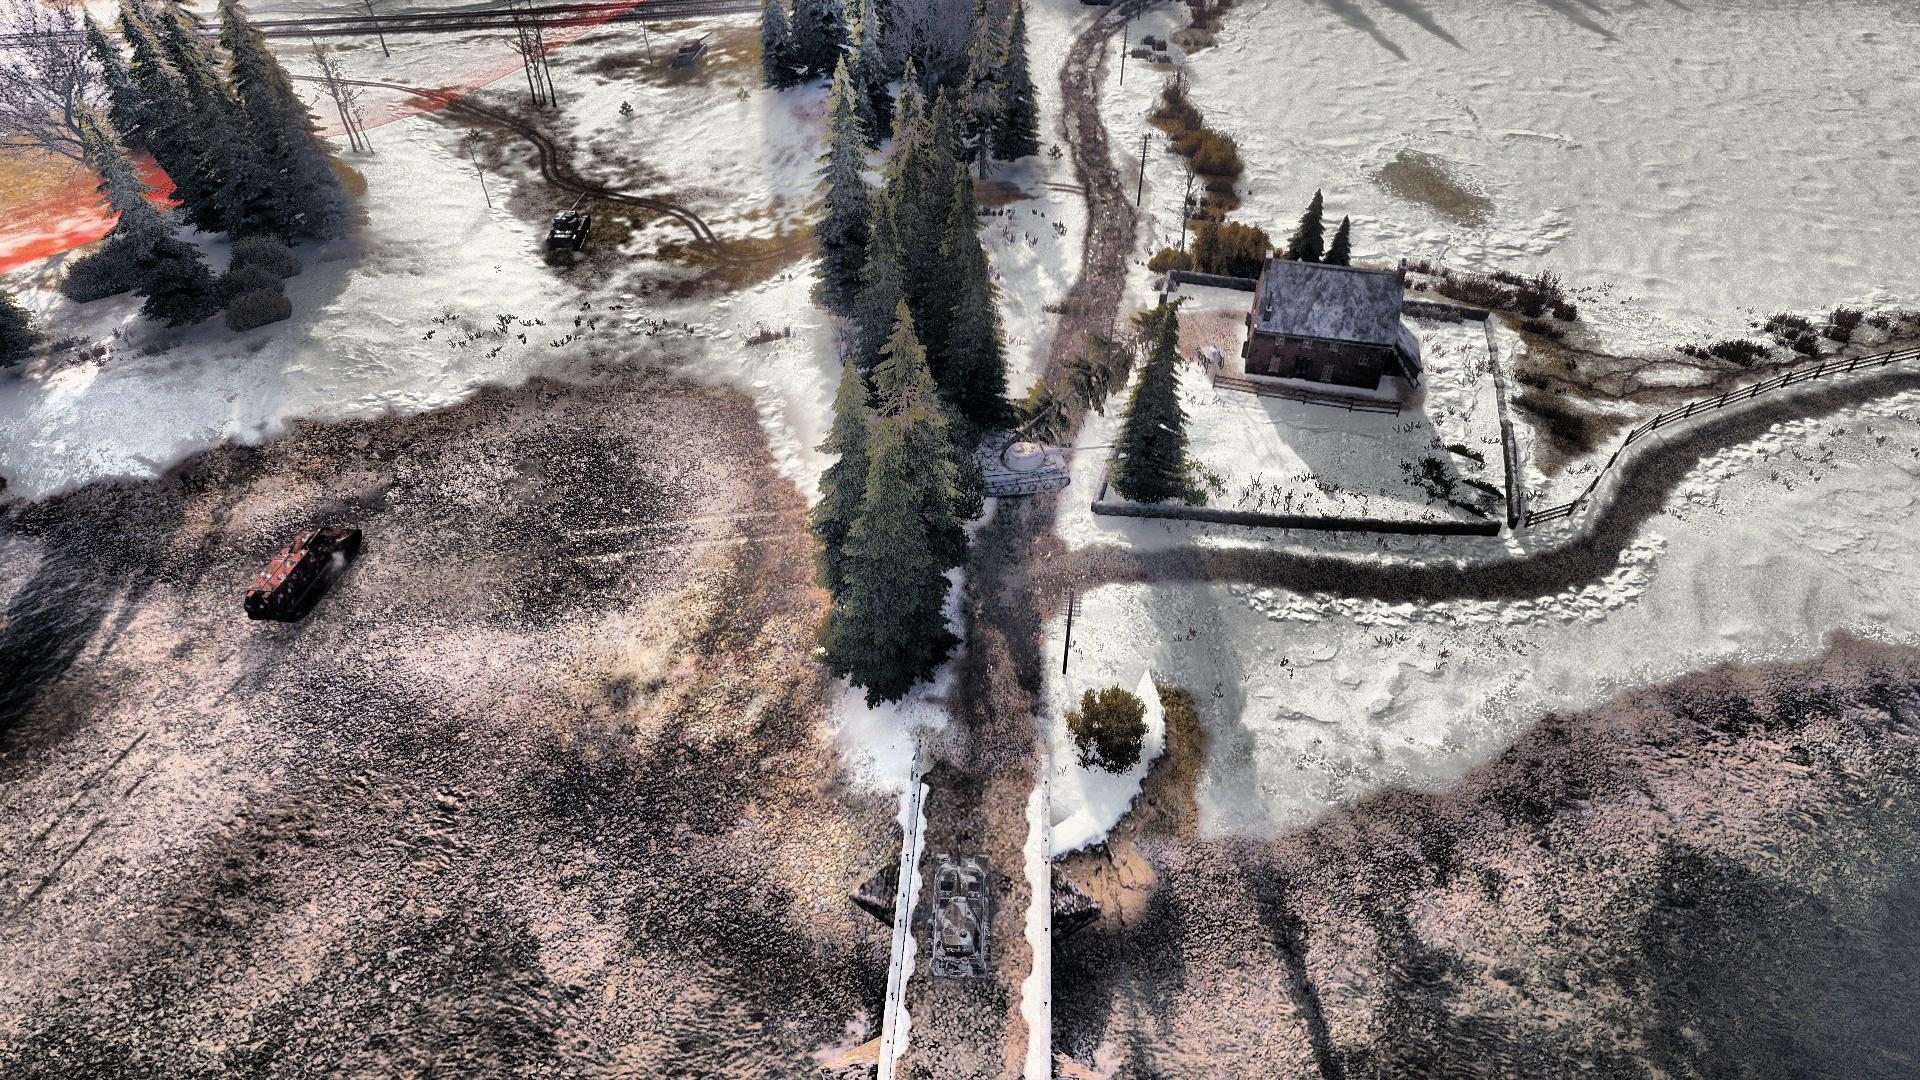military-vehicle: (241, 520, 360, 630), (924, 836, 990, 984), (967, 438, 1110, 495), (542, 191, 596, 248), (670, 33, 715, 71)
